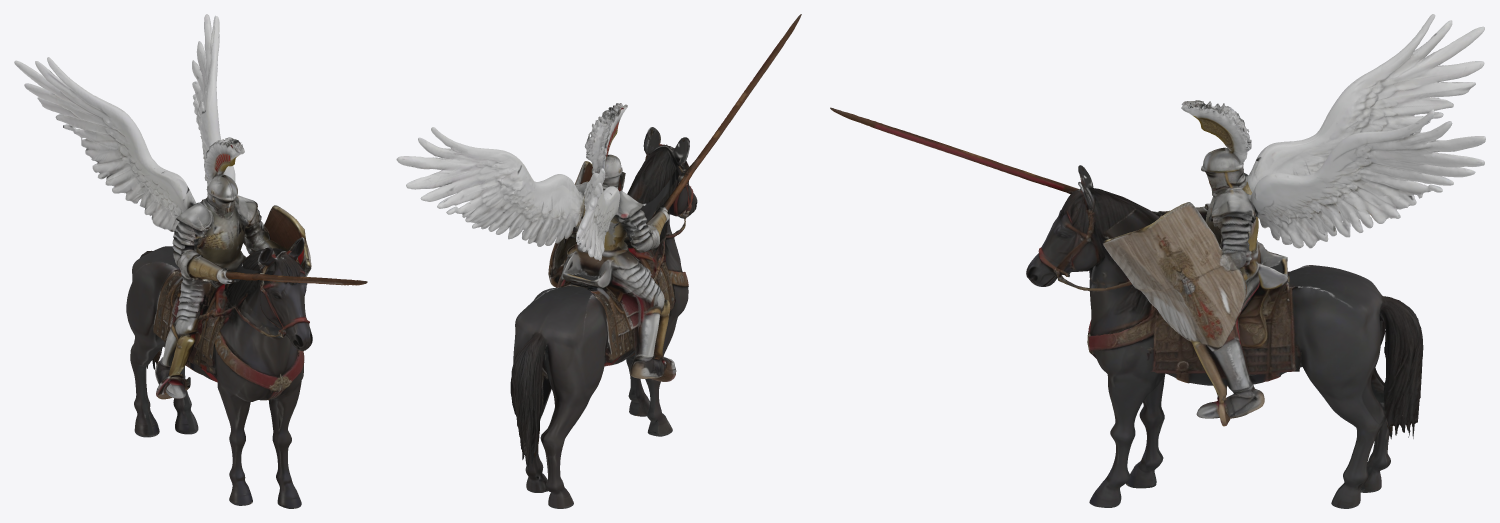
The model's file is polish_hussar.glb.
The picture shows the model from 3 angles, left to right: view 1: azimuth 30°, elevation 25°; view 2: azimuth 150°, elevation 25°; view 3: azimuth 270°, elevation 25°; orthographic projection. The views are drawn at different scales.
Parts seen in each view (by area): view 1: Object_4, Object_5; view 2: Object_4, Object_5; view 3: Object_4, Object_5.
Boxes of the visible parts, <box> form: Object_4: <box>15,14,367,508</box>; Object_5: <box>14,16,367,508</box>; Object_4: <box>396,14,801,508</box>; Object_5: <box>397,14,801,508</box>; Object_4: <box>830,14,1485,507</box>; Object_5: <box>830,22,1485,508</box>.
Size of the model in its own units: 0.7994 by 1.46 by 2.
1 material, 1 textured.
